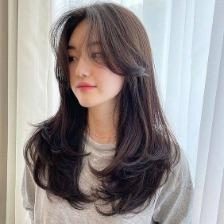Non hijab: (20, 2, 180, 211)
